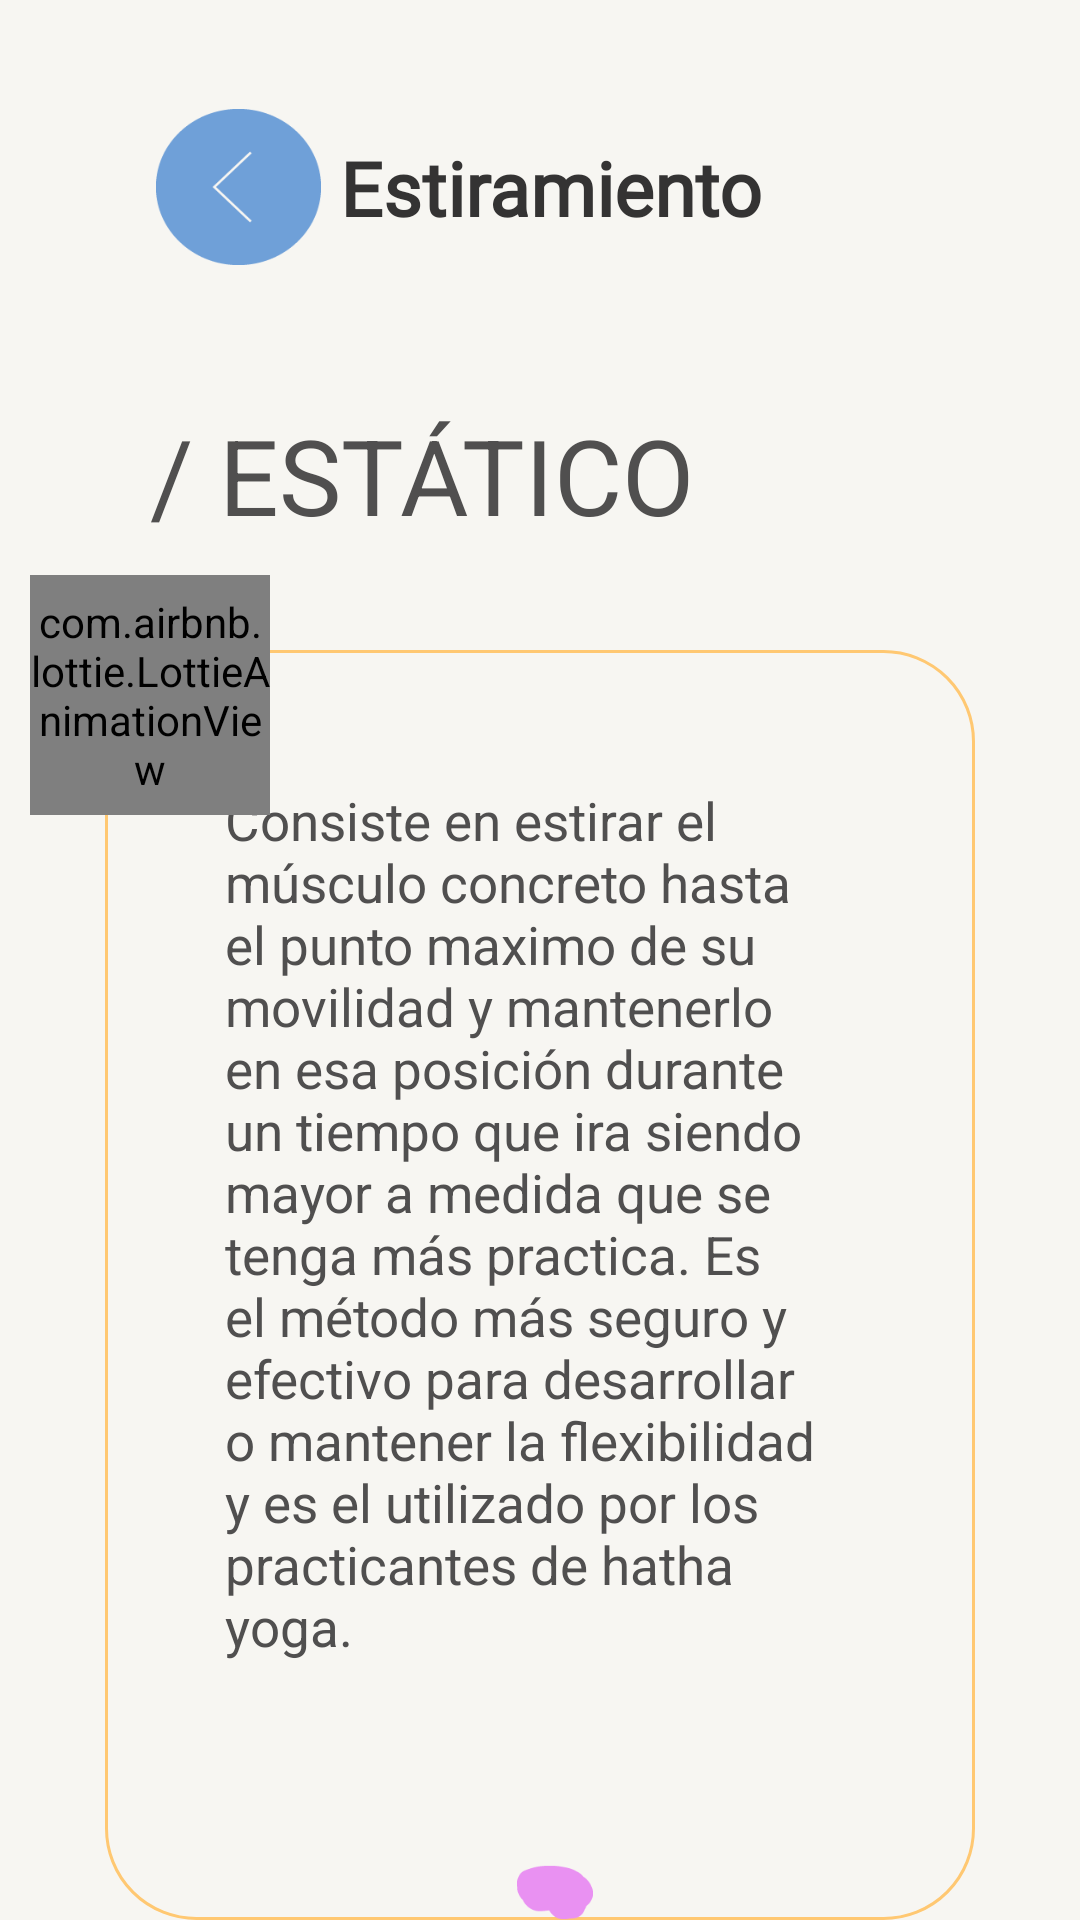

Screen size 1080w x 1920h. Icon name, then its center in pixels as [x,y]:
regresar xxxdpi: [238,187]
